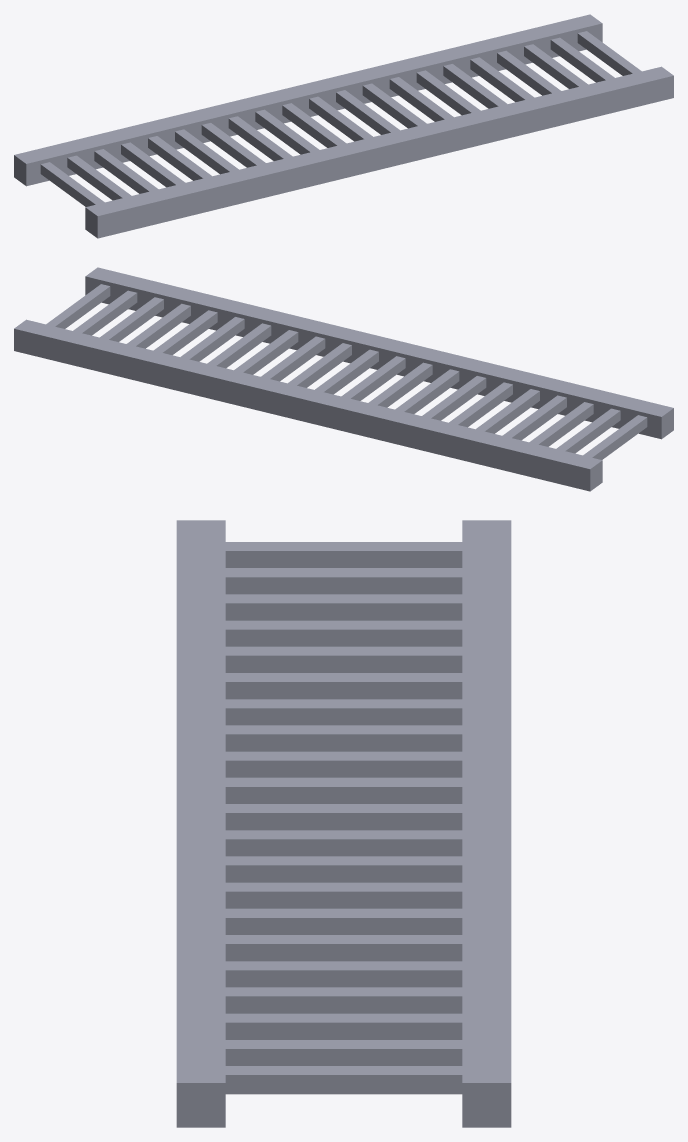
File: ladder.fbx
3 renders of one model, top to bottom at view 1: azimuth 30°, elevation 25°; view 2: azimuth 150°, elevation 25°; view 3: azimuth 270°, elevation 25°, orthographic. The views are drawn at different scales.
Parts seen in each view (by area): view 1: ladder; view 2: ladder; view 3: ladder.
Boxes of the visible parts, x1=… form: ladder: x1=14, y1=14, x2=673, y2=238; ladder: x1=14, y1=267, x2=673, y2=491; ladder: x1=176, y1=520, x2=511, y2=1127.
Size of the model in its own units: 1061 by 39.29 by 267.
